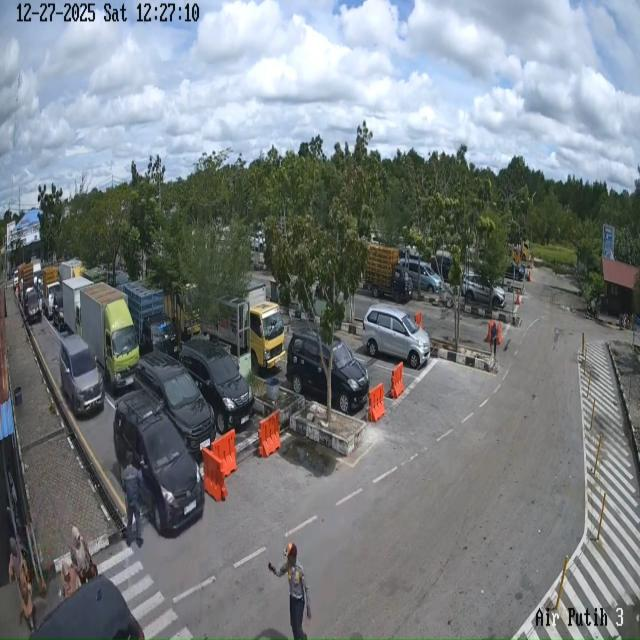Golongan IVA: (83, 389, 205, 588), (134, 351, 214, 459), (286, 328, 370, 414), (180, 339, 254, 434), (362, 305, 430, 369), (59, 334, 105, 416), (462, 272, 506, 308), (401, 258, 443, 294)
Golongan IVB: (364, 243, 413, 303)
Golongan VB: (203, 284, 286, 370), (80, 283, 139, 390), (59, 276, 93, 337)
